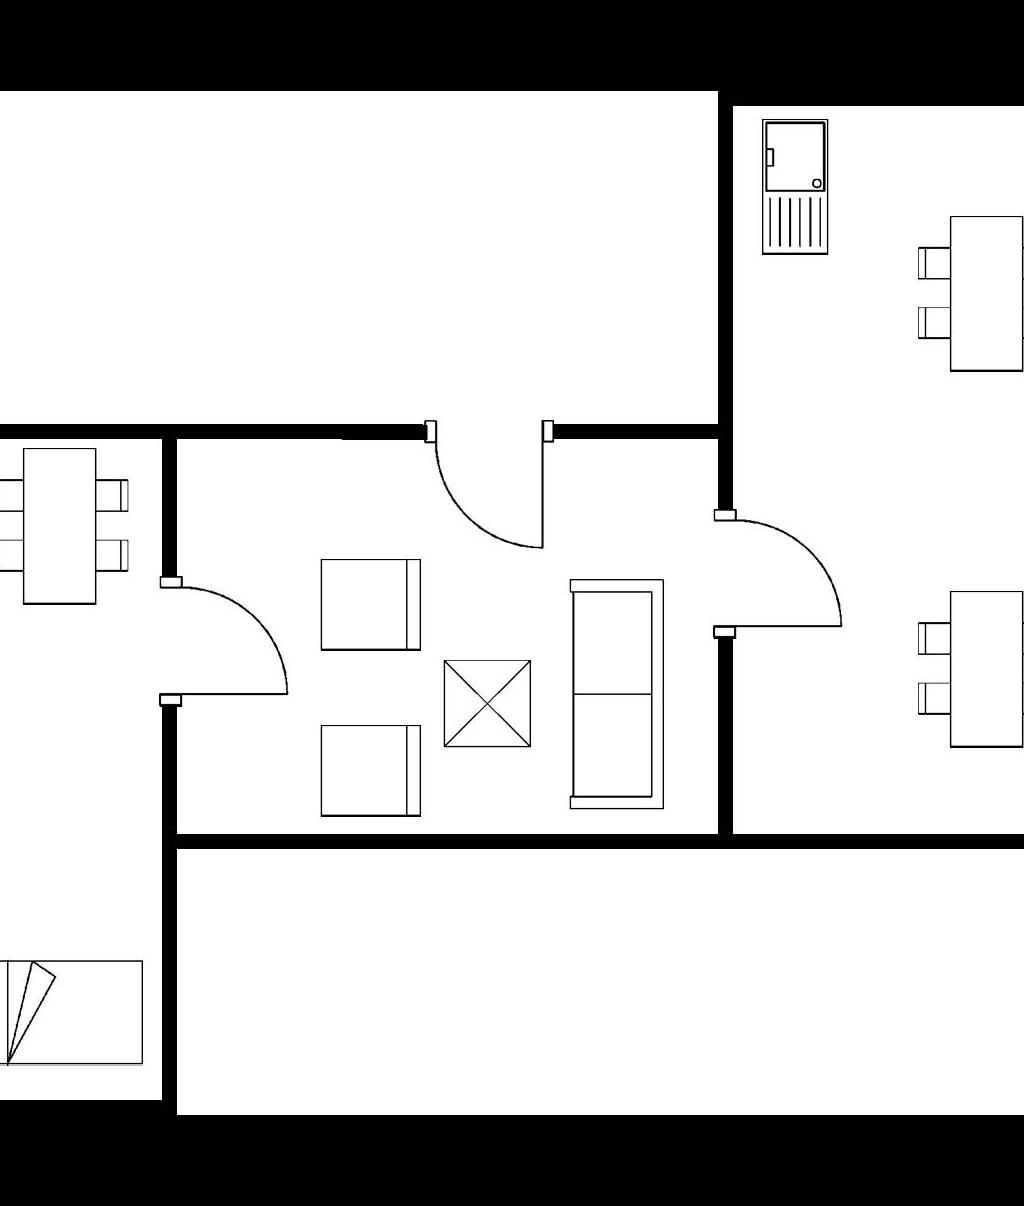bed: (0, 954, 152, 1076)
dining_table: (0, 443, 135, 614), (908, 576, 1024, 758), (912, 207, 1024, 380)
sink: (756, 116, 835, 263)
sofa: (557, 571, 675, 822)
